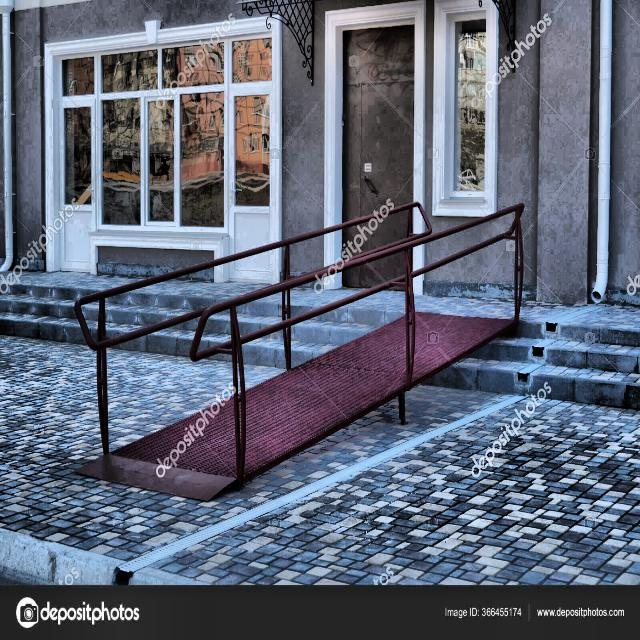escada: (2, 282, 640, 413)
